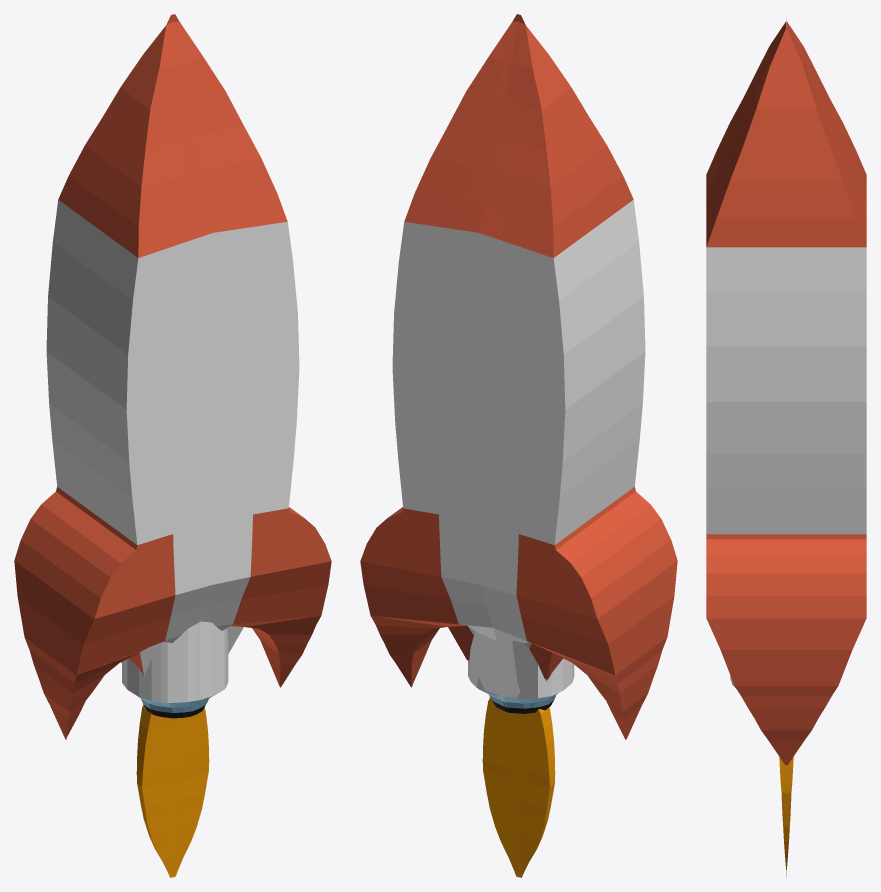
The model's file is rocket.glb.
3 renders of one model, left to right at view 1: azimuth 30°, elevation 25°; view 2: azimuth 150°, elevation 25°; view 3: azimuth 270°, elevation 25°, orthographic.
Parts seen in each view (by area): view 1: roket; view 2: roket; view 3: roket.
Boxes of the visible parts, bbox=[...] form: roket: bbox=[14, 14, 331, 877]; roket: bbox=[360, 14, 677, 877]; roket: bbox=[706, 14, 866, 877].
Size of the model in its own units: 0.7157 by 2.41 by 0.4057.
1 material, 1 textured.
